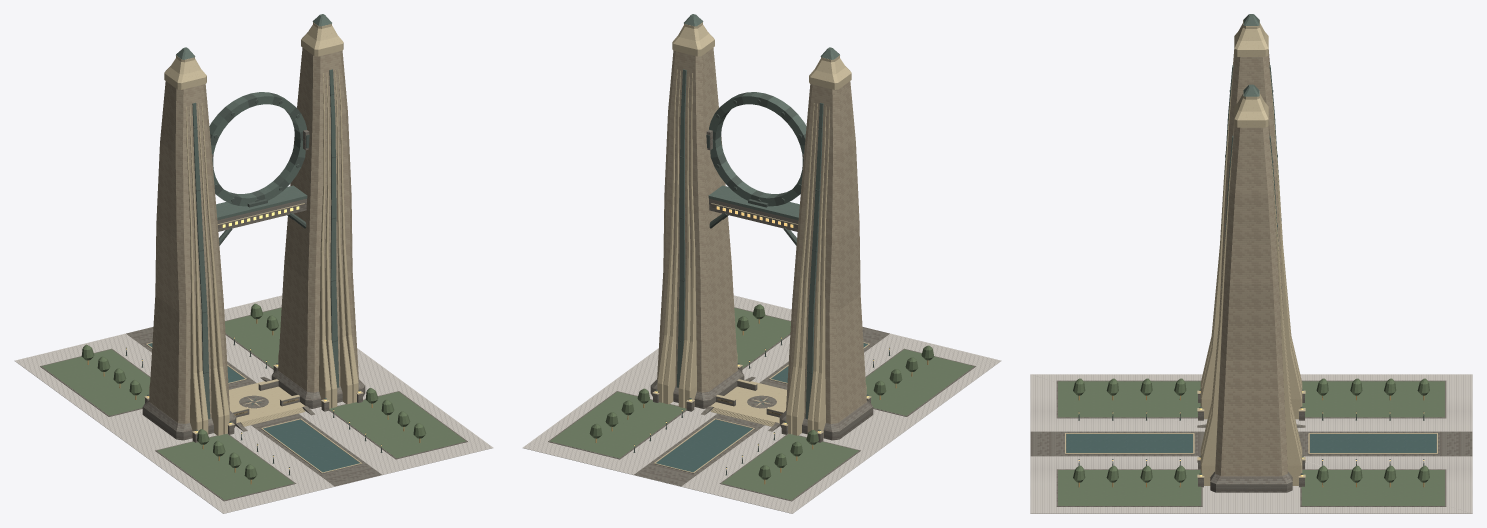
The model's file is meridian-memorial.glb.
3 renders of one model, left to right at view 1: azimuth 30°, elevation 25°; view 2: azimuth 150°, elevation 25°; view 3: azimuth 270°, elevation 25°, orthographic. The views are drawn at different scales.
Parts seen in each view (by area): view 1: monument__wall_ashlar, meridian_memorial__ground_paving, national_square__ground_grass, monument__wall_limestone, monument__detail_patina, national_square__wall_granite, monument__wall_granite, national_square__wall_limestone, national_square__detail_water, monument__detail_bronze; view 2: monument__wall_ashlar, meridian_memorial__ground_paving, national_square__ground_grass, monument__wall_limestone, monument__detail_patina, national_square__wall_granite, monument__wall_granite, national_square__wall_limestone, national_square__detail_water, monument__detail_bronze; view 3: monument__wall_ashlar, meridian_memorial__ground_paving, national_square__ground_grass, monument__wall_limestone, national_square__wall_granite, national_square__detail_water, monument__wall_granite, monument__detail_patina, national_square__wall_limestone.
Boxes of the visible parts, x1,y1,x2,y2 form: monument__wall_ashlar: (149,47,358,423); meridian_memorial__ground_paving: (14,295,493,513); national_square__ground_grass: (42,308,465,500); monument__wall_limestone: (149,22,358,437); monument__detail_patina: (176,14,339,419); national_square__wall_granite: (40,307,467,501); monument__wall_granite: (142,130,365,440); national_square__wall_limestone: (144,342,363,473); national_square__detail_water: (148,343,359,472); monument__detail_bronze: (194,92,337,373); monument__wall_ashlar: (657,47,866,423); meridian_memorial__ground_paving: (522,295,1001,513); national_square__ground_grass: (550,308,973,500); monument__wall_limestone: (657,22,866,437); monument__detail_patina: (676,14,839,419); national_square__wall_granite: (548,307,975,501); monument__wall_granite: (650,130,873,440); national_square__wall_limestone: (652,342,871,473); national_square__detail_water: (656,343,867,472); monument__detail_bronze: (678,92,821,373); monument__wall_ashlar: (1215,50,1287,476); meridian_memorial__ground_paving: (1030,374,1472,513); national_square__ground_grass: (1058,381,1444,505); monument__wall_limestone: (1200,20,1302,485); national_square__wall_granite: (1030,380,1472,506); national_square__detail_water: (1066,434,1436,452); monument__wall_granite: (1210,472,1292,492); monument__detail_patina: (1224,14,1278,250); national_square__wall_limestone: (1065,390,1437,477).
Bounding box in the file's own units: 176 × 232 × 236.
Materials: 12 (12 with a texture image).
